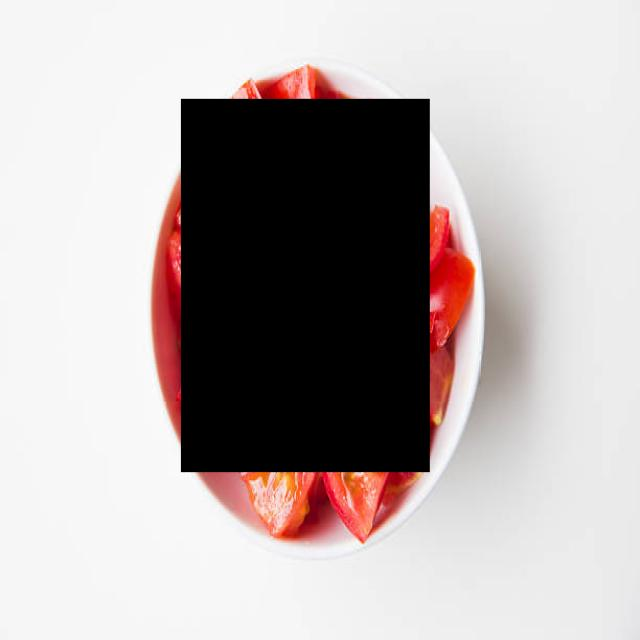Tomato: (182, 100, 431, 473)
